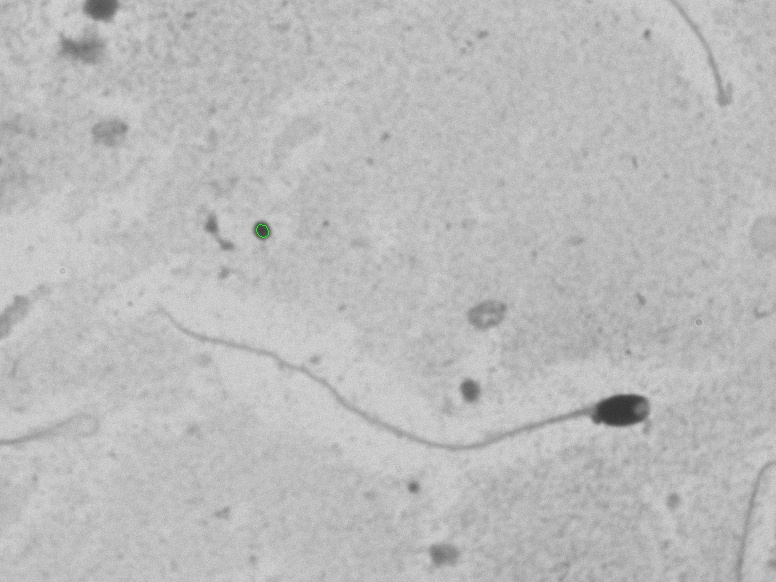Abnormal: (135, 284, 682, 498)
